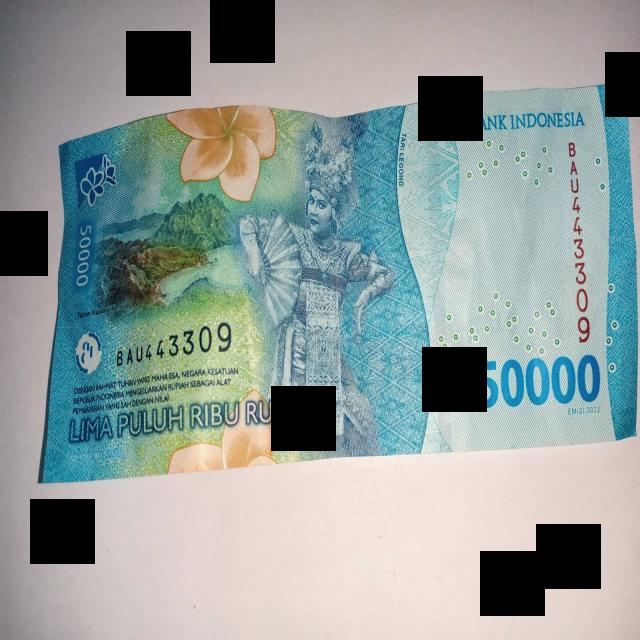lima puluh ribu rupiah: (39, 83, 638, 482)
